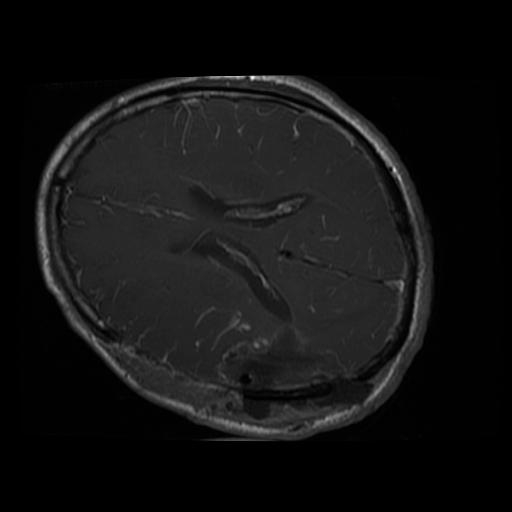glioma: (218, 326, 372, 420)
